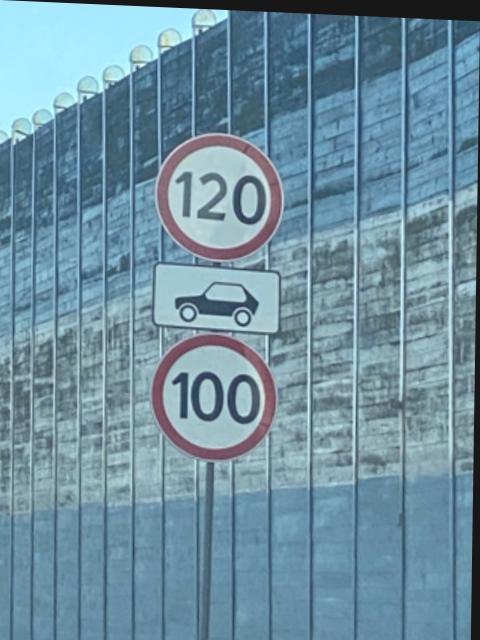limit100: (149, 324, 282, 467)
limit120: (151, 114, 293, 269)
